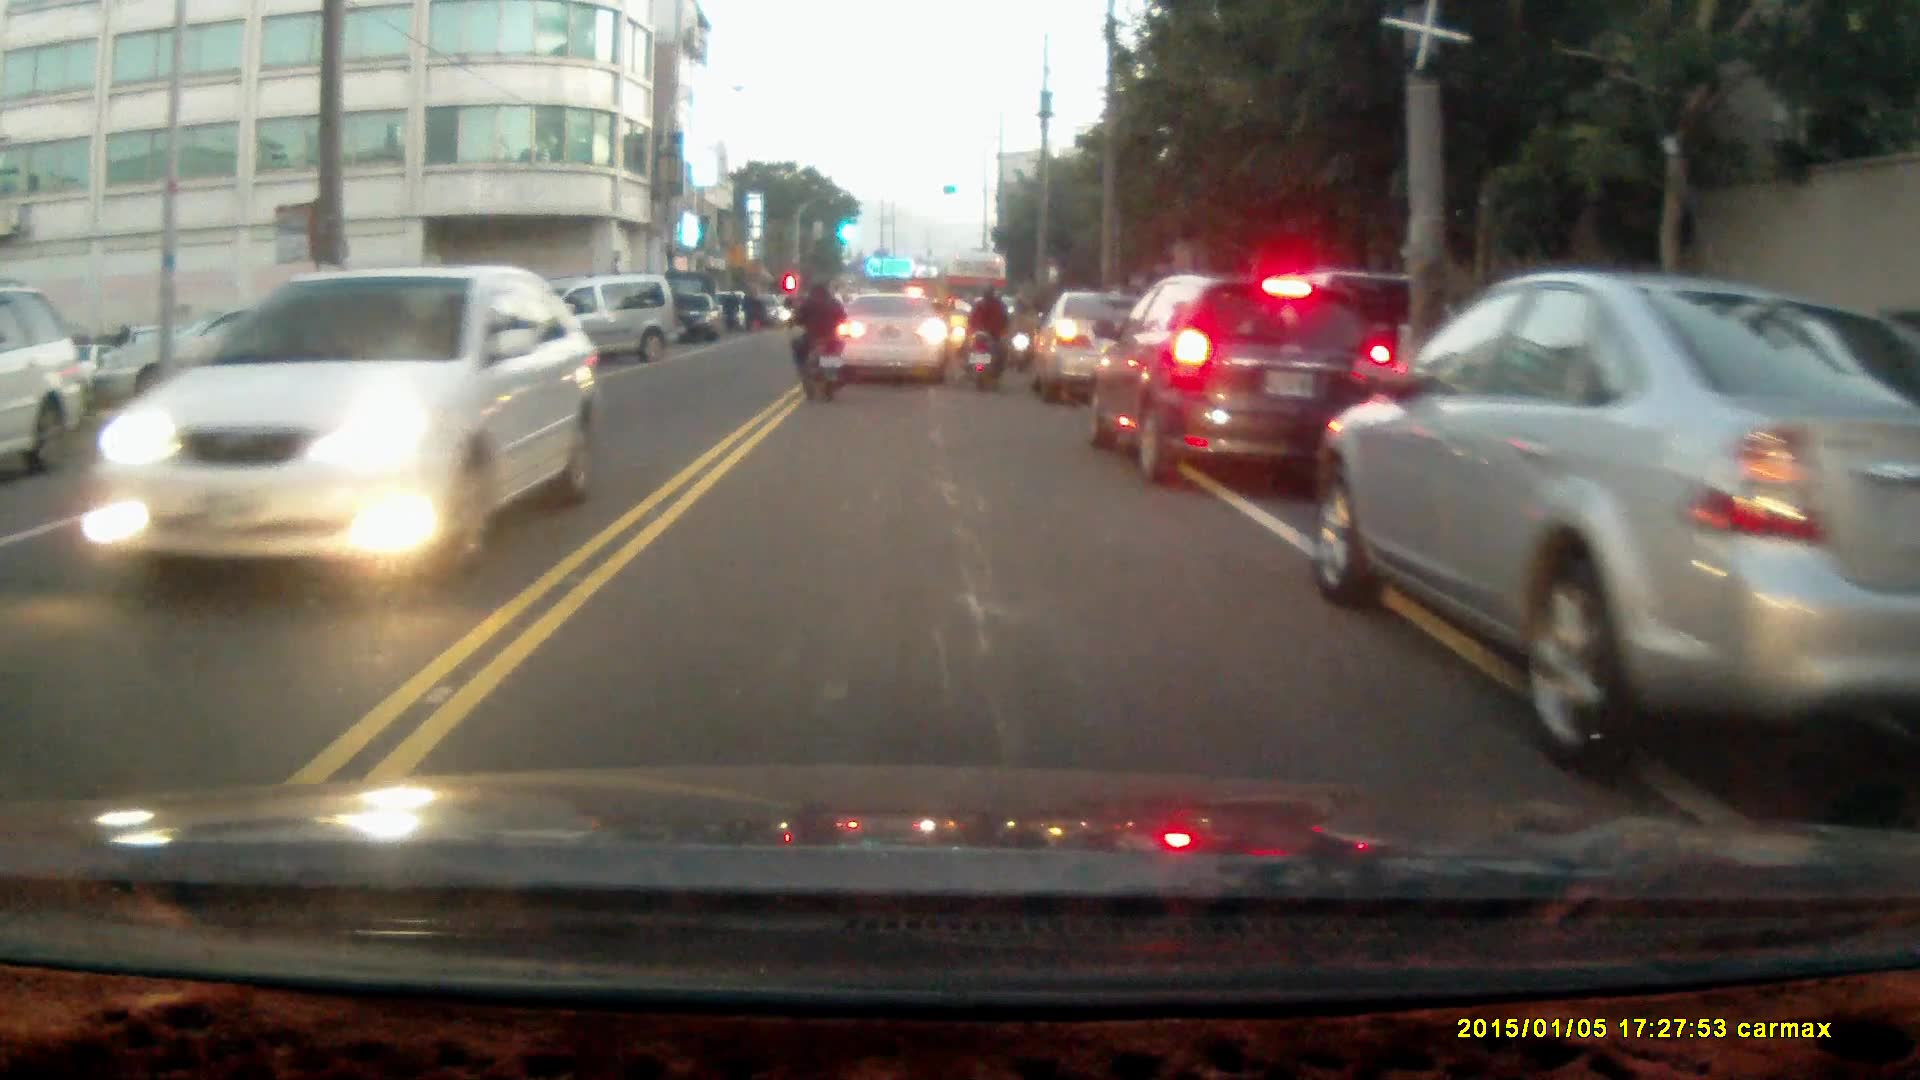rider: (787, 277, 847, 402), (960, 278, 1016, 390)
vehicle: (1328, 265, 1920, 766), (106, 262, 577, 584), (1082, 267, 1394, 483), (1, 284, 85, 476), (1028, 290, 1151, 403), (833, 289, 948, 389), (669, 292, 724, 344)
